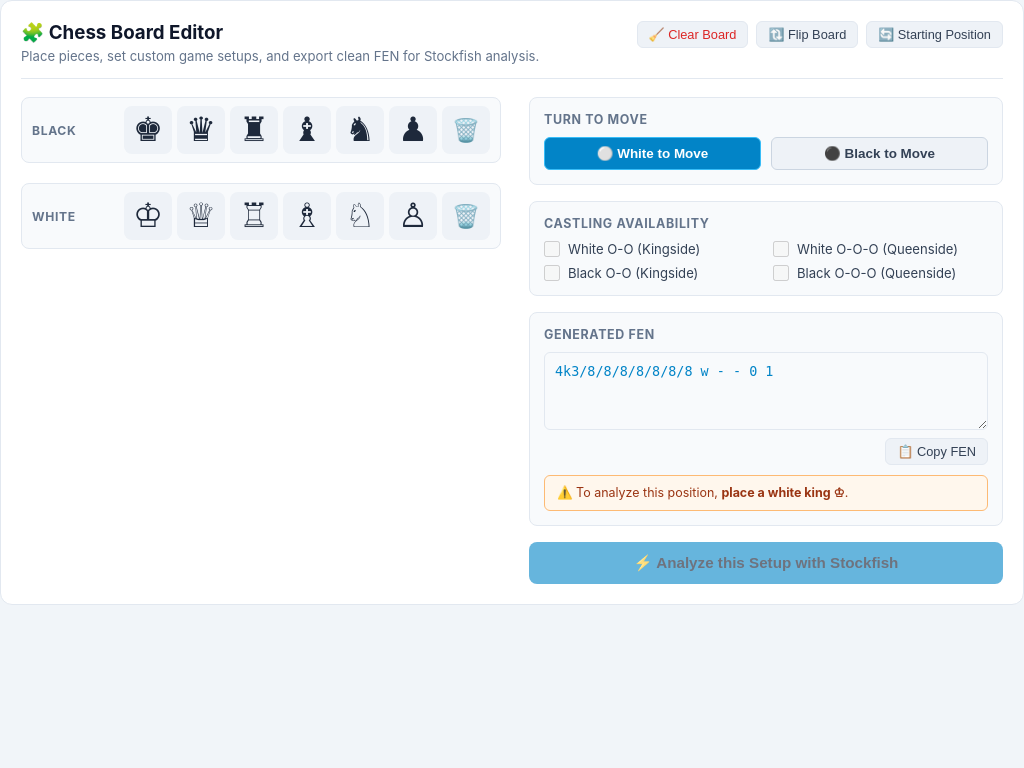
Test case: BoardEditor validation and analysis › lifts the block once the position becomes legal
This screenshot has width=1024, height=768.
Expected: the button "⚡ Analyze this Setup with Stockfish" is disabled, [529,542,1003,584]
Click the button titled "Select White King": (148, 216) [124,192,172,240]
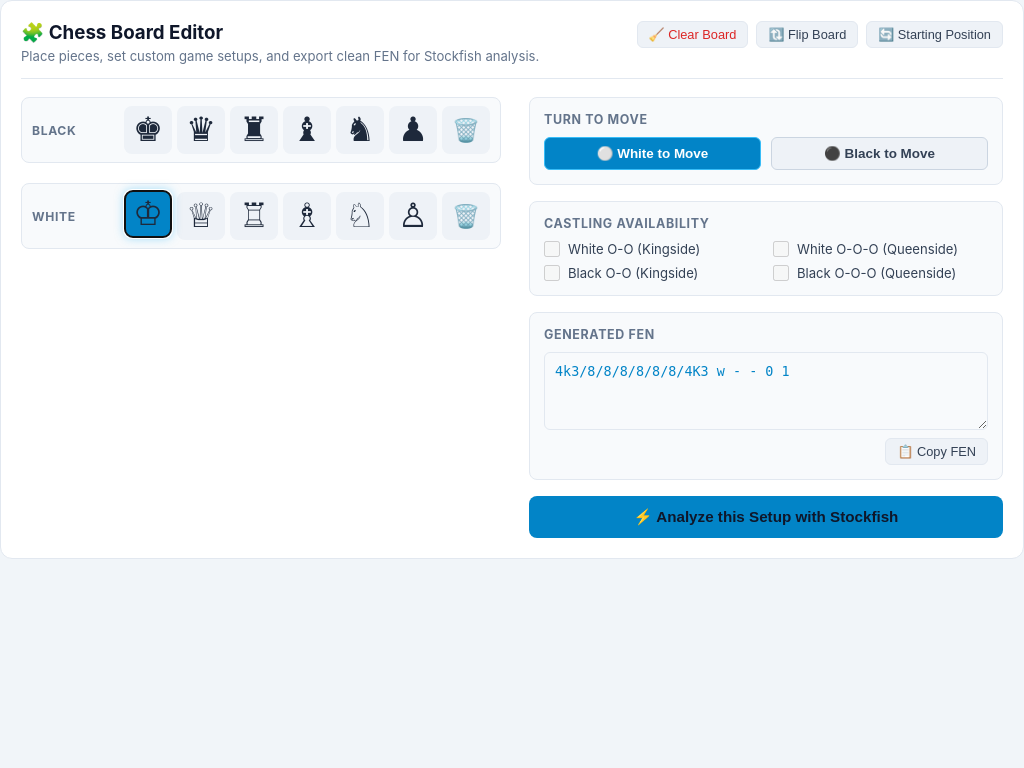
Expected: the text "To analyze this position" is gone
Expected: the button "⚡ Analyze this Setup with Stockfish" is enabled, [529,496,1003,538]
